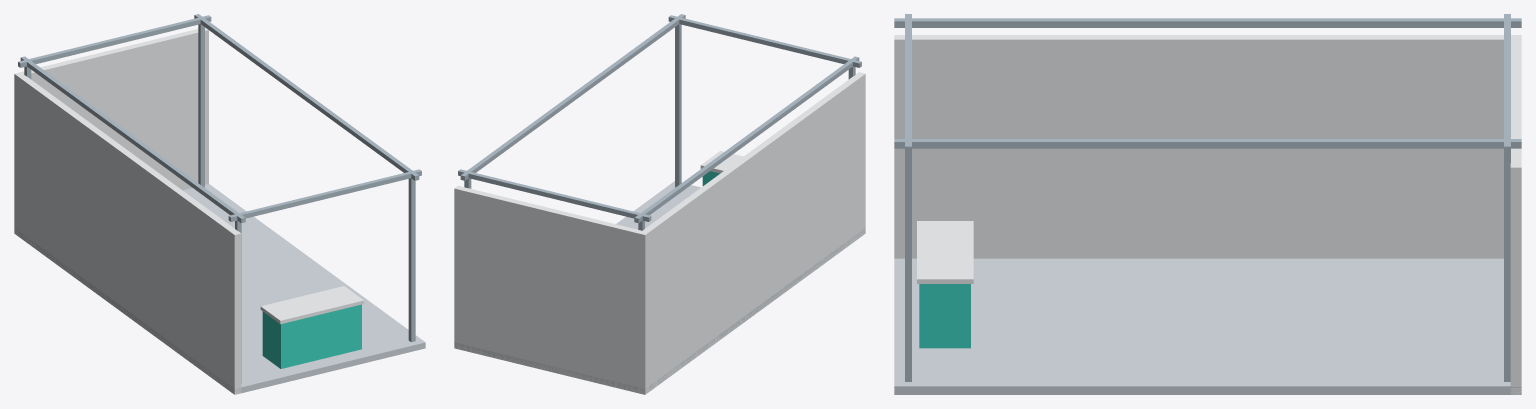
3 views of the same model, side by side, from view 1: azimuth 30°, elevation 25°; view 2: azimuth 150°, elevation 25°; view 3: azimuth 270°, elevation 25° (orthographic). The views are drawn at different scales.
Parts seen in each view (by area): view 1: Exhibition Booth Concept; view 2: Exhibition Booth Concept; view 3: Exhibition Booth Concept.
Boxes of the visible parts, x1,y1,x2,y2 form: Exhibition Booth Concept: [14, 14, 425, 394]; Exhibition Booth Concept: [454, 14, 865, 394]; Exhibition Booth Concept: [894, 14, 1521, 394].
Bounding box in the file's own units: 4 × 3.49 × 8.
